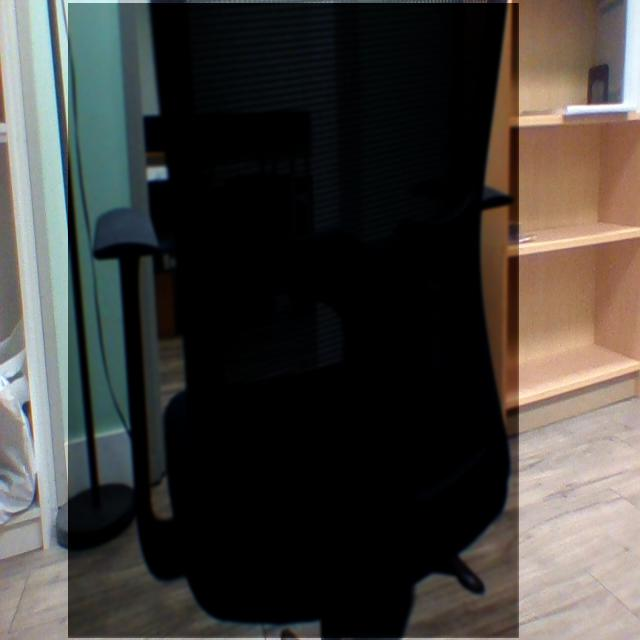black-chair: (68, 3, 520, 639)
